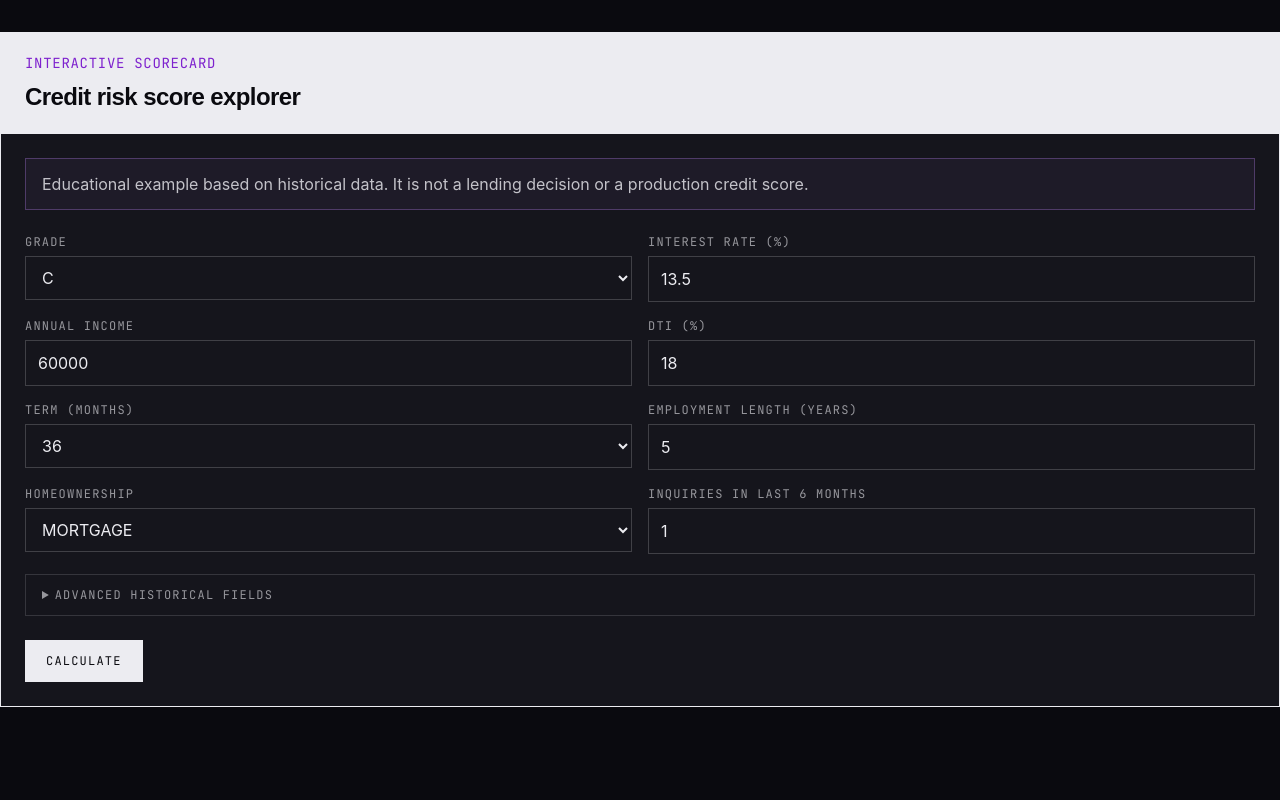
Scenario: calculates the specified default profile
Click the button "Calculate".
click(84, 661)  # box [25, 640, 143, 682]
(page scrolled)
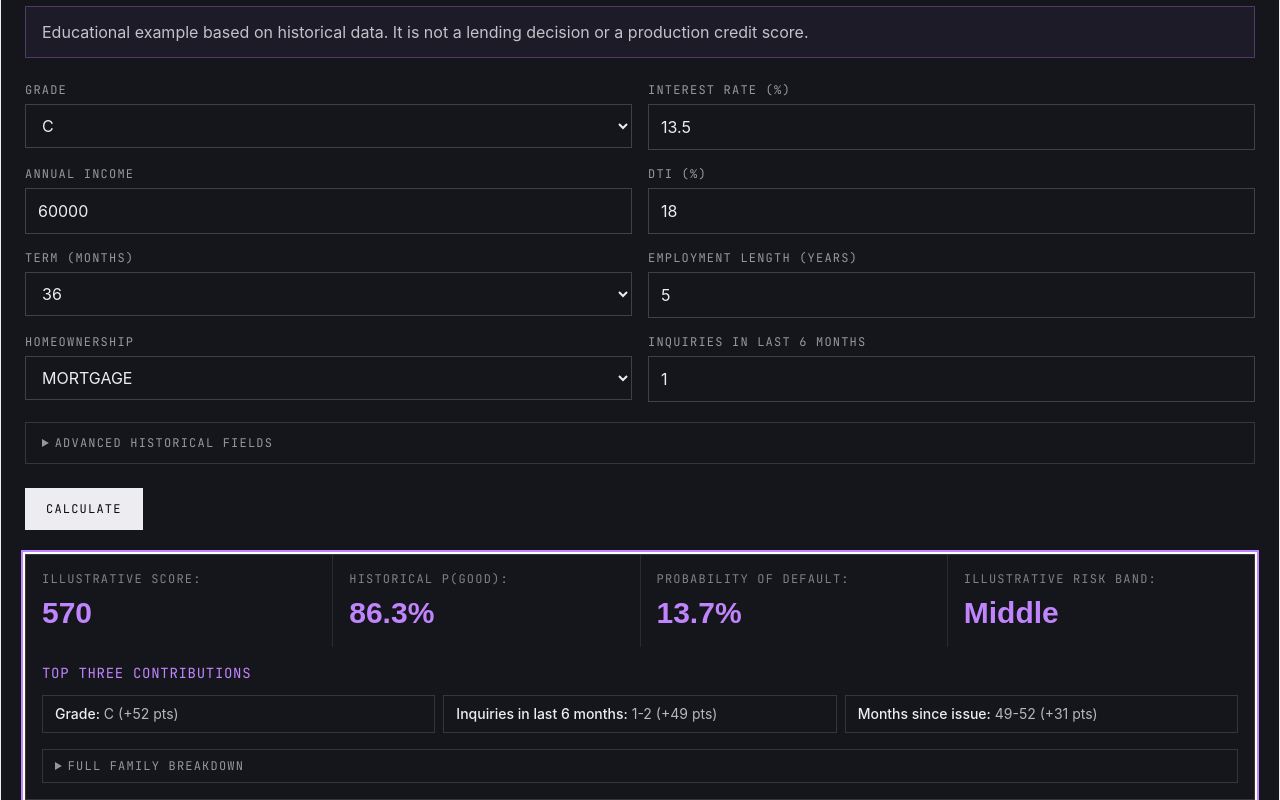
Expected: the text "Illustrative score:" is shown, [42, 571, 202, 587]
Expected: the text "Historical P(good):" is shown, [349, 571, 509, 587]
Expected: the text "Probability of default:" is shown, [656, 571, 850, 587]
